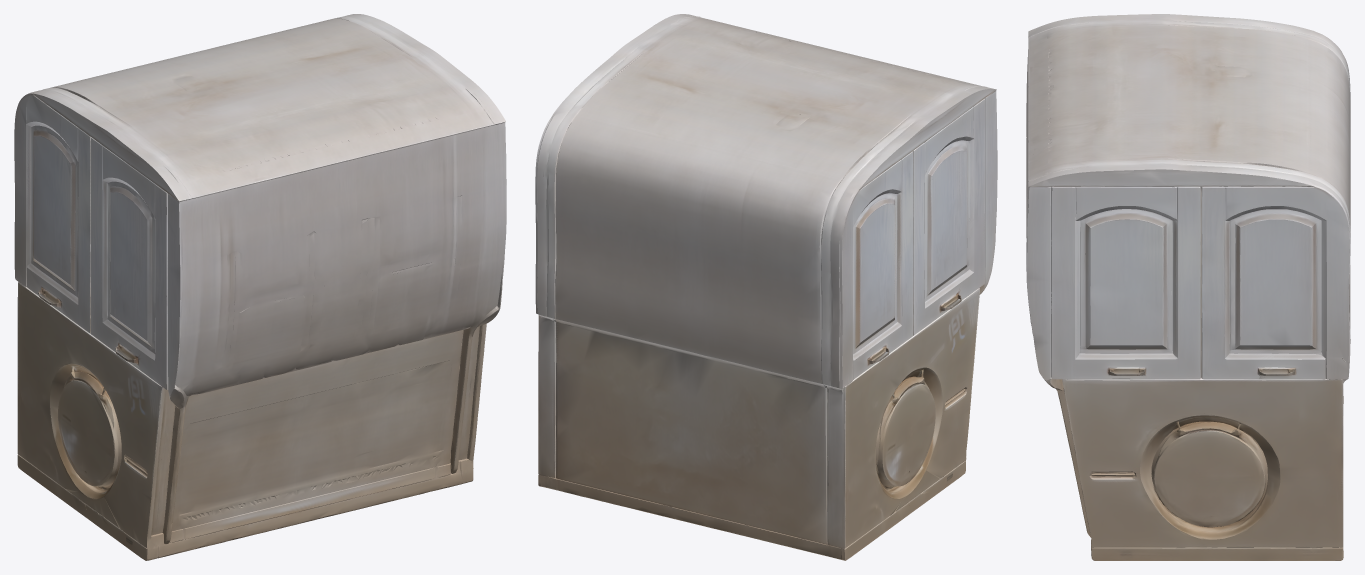
Rendered from dish-rack.glb.
The picture shows the model from 3 angles, left to right: view 1: azimuth 30°, elevation 25°; view 2: azimuth 150°, elevation 25°; view 3: azimuth 270°, elevation 25°; orthographic projection. The views are drawn at different scales.
Parts seen in each view (by area): view 1: model; view 2: model; view 3: model.
Part boxes in pixels (x1,y1,x2,y2): model: (14,14,506,560); model: (535,14,997,560); model: (1026,14,1350,560).
Size of the model in its own units: 1.66 by 1.9 by 1.4.
1 material, 1 textured.
